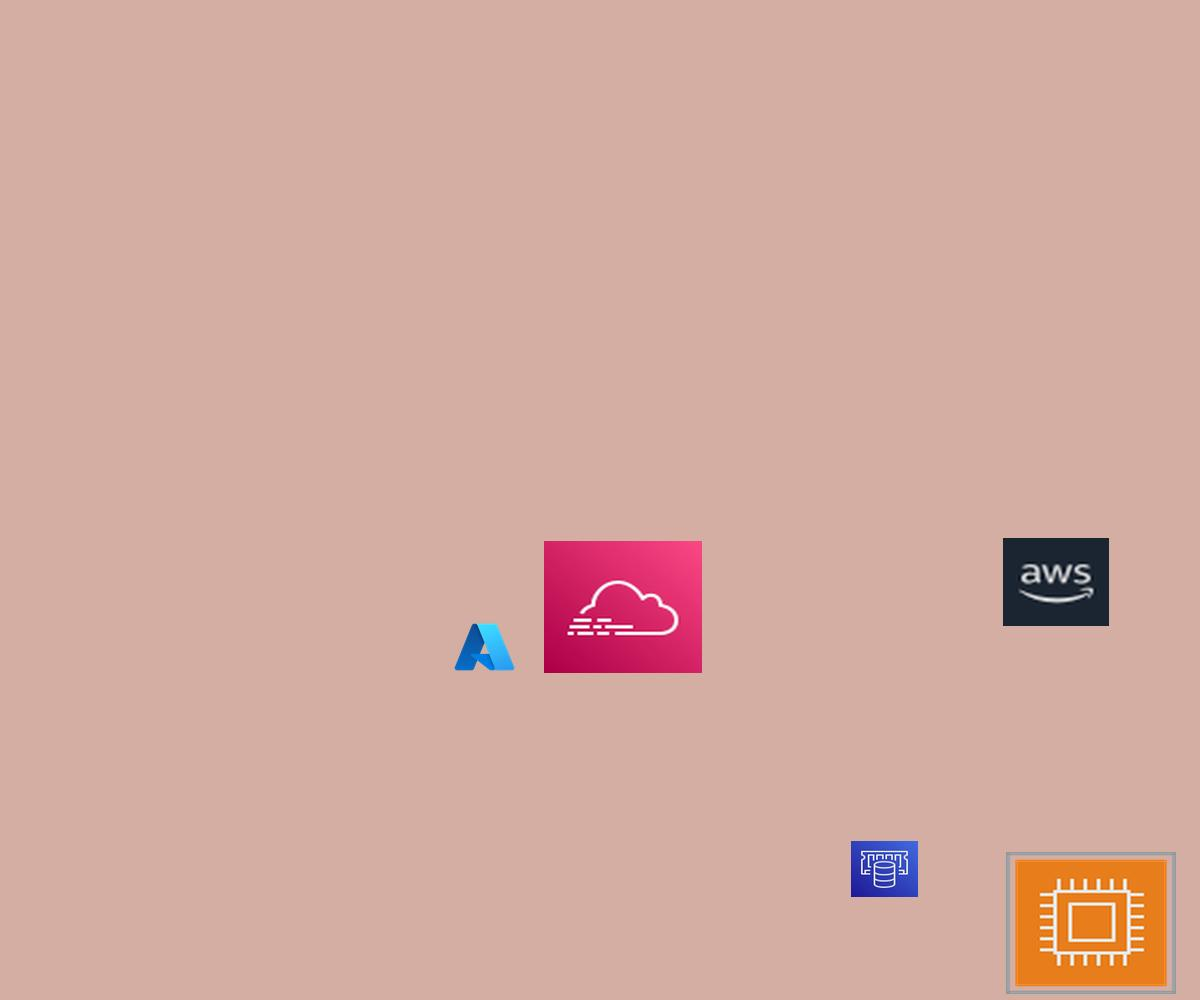AWS-Category_Compute: (1006, 852, 1176, 994)
AWS-Cloud-logo: (1003, 538, 1109, 626)
AWS-CloudTrail: (544, 541, 702, 673)
AWS-ElastiCache: (851, 841, 918, 897)
Azure_services: (452, 620, 517, 674)
